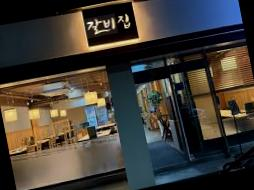galbi: (84, 12, 118, 39)
